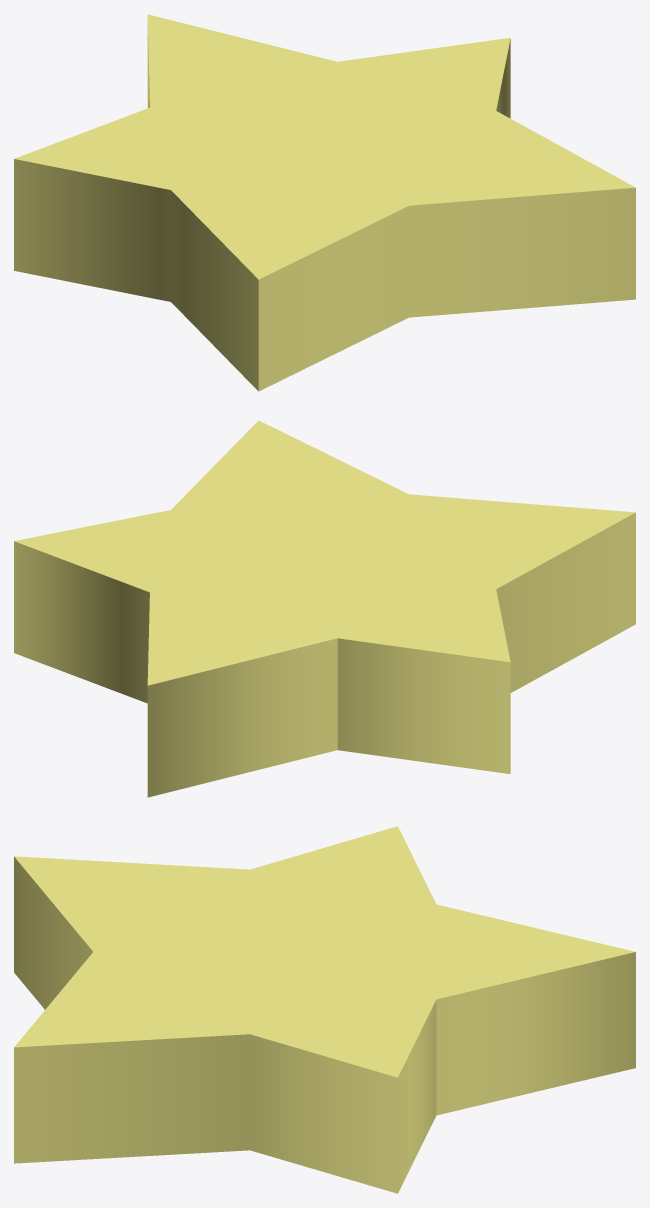
Rendered from Sternlampe.fbx.
3 renders of one model, top to bottom at view 1: azimuth 30°, elevation 25°; view 2: azimuth 150°, elevation 25°; view 3: azimuth 270°, elevation 25°, orthographic. The views are drawn at different scales.
Visible parts, largest first — view 1: Sternlampe; view 2: Sternlampe; view 3: Sternlampe.
Part boxes in pixels (box(x1,y1,x2,y2)): Sternlampe: box(14, 14, 635, 391); Sternlampe: box(14, 420, 635, 797); Sternlampe: box(14, 826, 635, 1193).
Size of the model in its own units: 1.32 by 0.2834 by 1.38.
